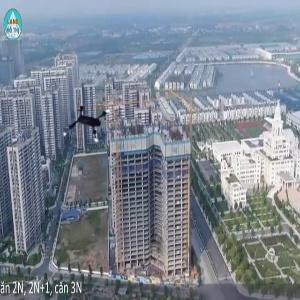drone: (59, 96, 122, 159)
